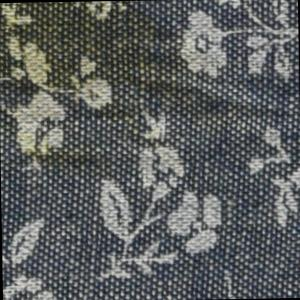Oil Stain: (1, 1, 244, 171)
